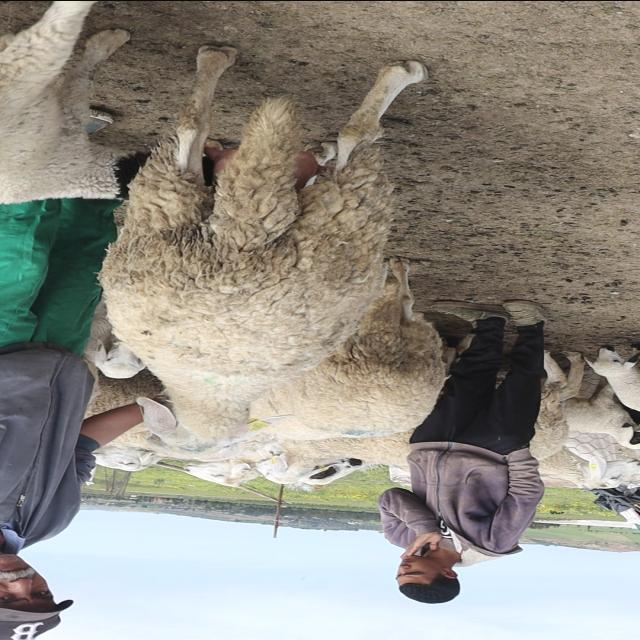Score_2: (100, 45, 427, 459)
